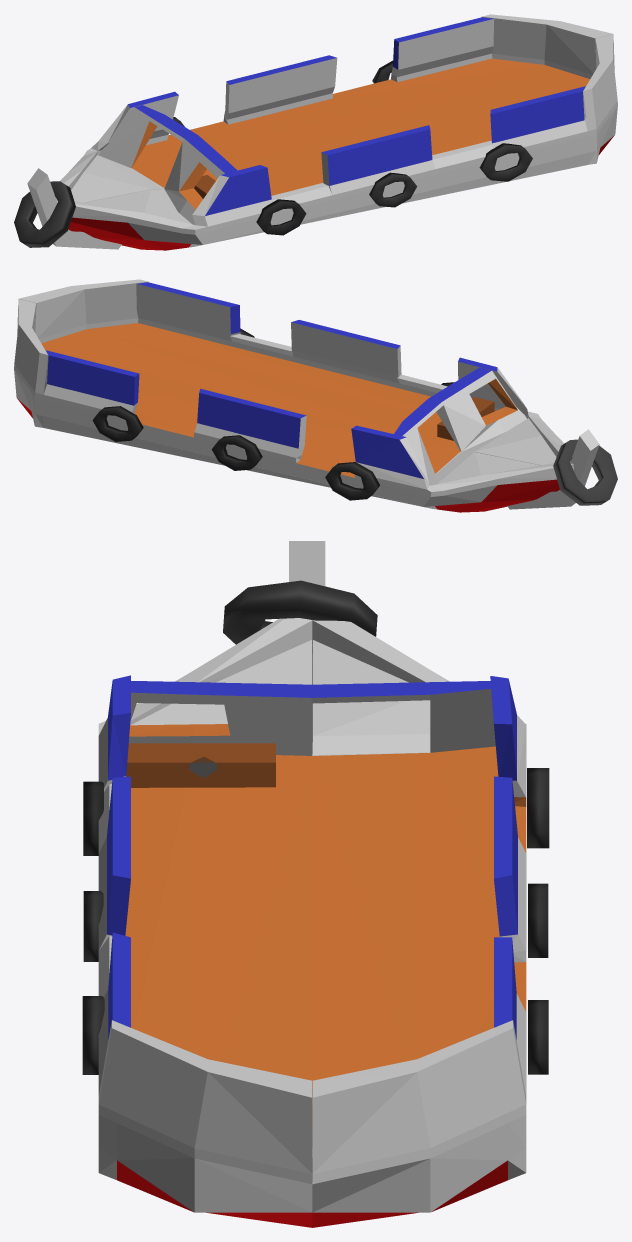
Rendered from FASE 4 BARCO BRANCO.dae.
3 views of the same model, one above another, from view 1: azimuth 30°, elevation 25°; view 2: azimuth 150°, elevation 25°; view 3: azimuth 270°, elevation 25° (orthographic). The views are drawn at different scales.
Visible parts, largest first — view 1: Cube, Cube.018, Cube.019, Cube.016, Cube.015, Cube.017; view 2: Cube, Cube.018, Cube.019, Cube.008, Cube.007, Cube.006, Cube.002; view 3: Cube, Cube.002, Cube.018, Cube.008, Cube.007, Cube.006, Cube.019, Cube.016, Cube.015, Cube.017.
Boxes of the visible parts, <box> form: Cube: <box>56,14,617,250</box>; Cube.018: <box>14,181,75,247</box>; Cube.019: <box>27,168,121,249</box>; Cube.016: <box>479,143,532,181</box>; Cube.015: <box>256,199,306,235</box>; Cube.017: <box>369,172,416,207</box>; Cube: <box>14,279,573,512</box>; Cube.018: <box>553,439,617,505</box>; Cube.019: <box>507,429,599,509</box>; Cube.008: <box>325,462,379,500</box>; Cube.007: <box>92,406,143,441</box>; Cube.006: <box>212,435,262,470</box>; Cube.002: <box>437,397,494,440</box>; Cube: <box>98,618,526,1227</box>; Cube.002: <box>126,743,275,787</box>; Cube.018: <box>223,580,377,644</box>; Cube.008: <box>527,768,549,848</box>; Cube.007: <box>528,1000,548,1074</box>; Cube.006: <box>528,883,548,957</box>; Cube.019: <box>289,541,325,586</box>; Cube.016: <box>82,996,104,1074</box>; Cube.015: <box>83,781,103,855</box>; Cube.017: <box>83,891,103,961</box>.
Bounding box in the file's own units: 110 × 37.72 × 18.23.
